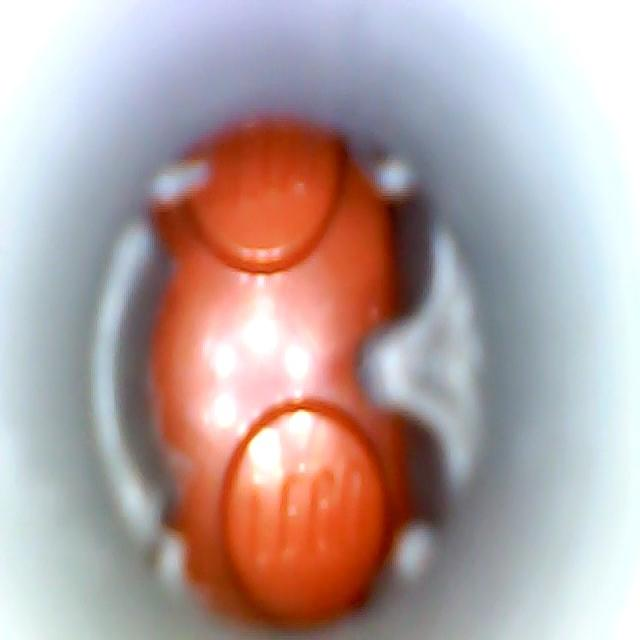studs: (222, 400, 393, 624), (188, 124, 344, 272)
